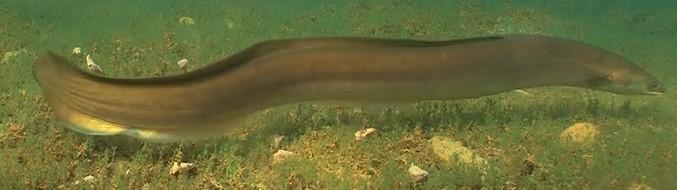Freshwater Eel: (34, 28, 677, 141)
